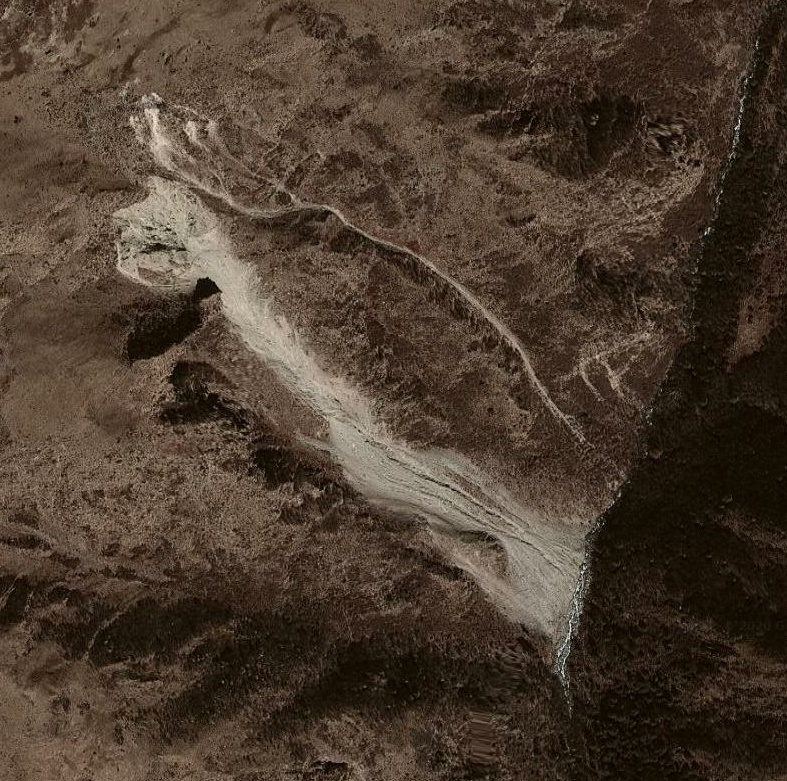slope: (100, 171, 592, 649), (127, 84, 231, 168)
